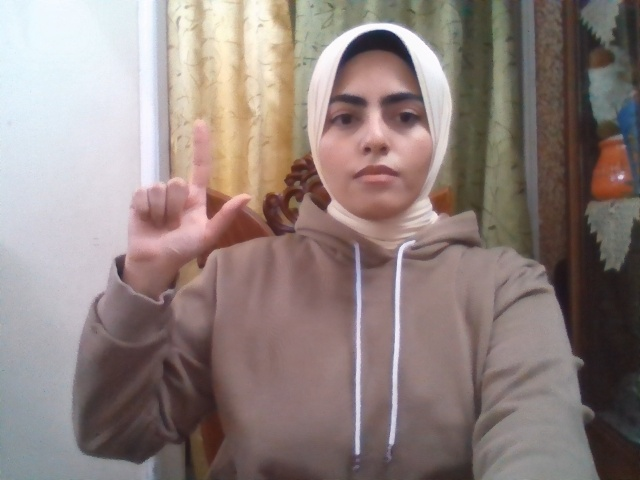L: (125, 119, 251, 265)
